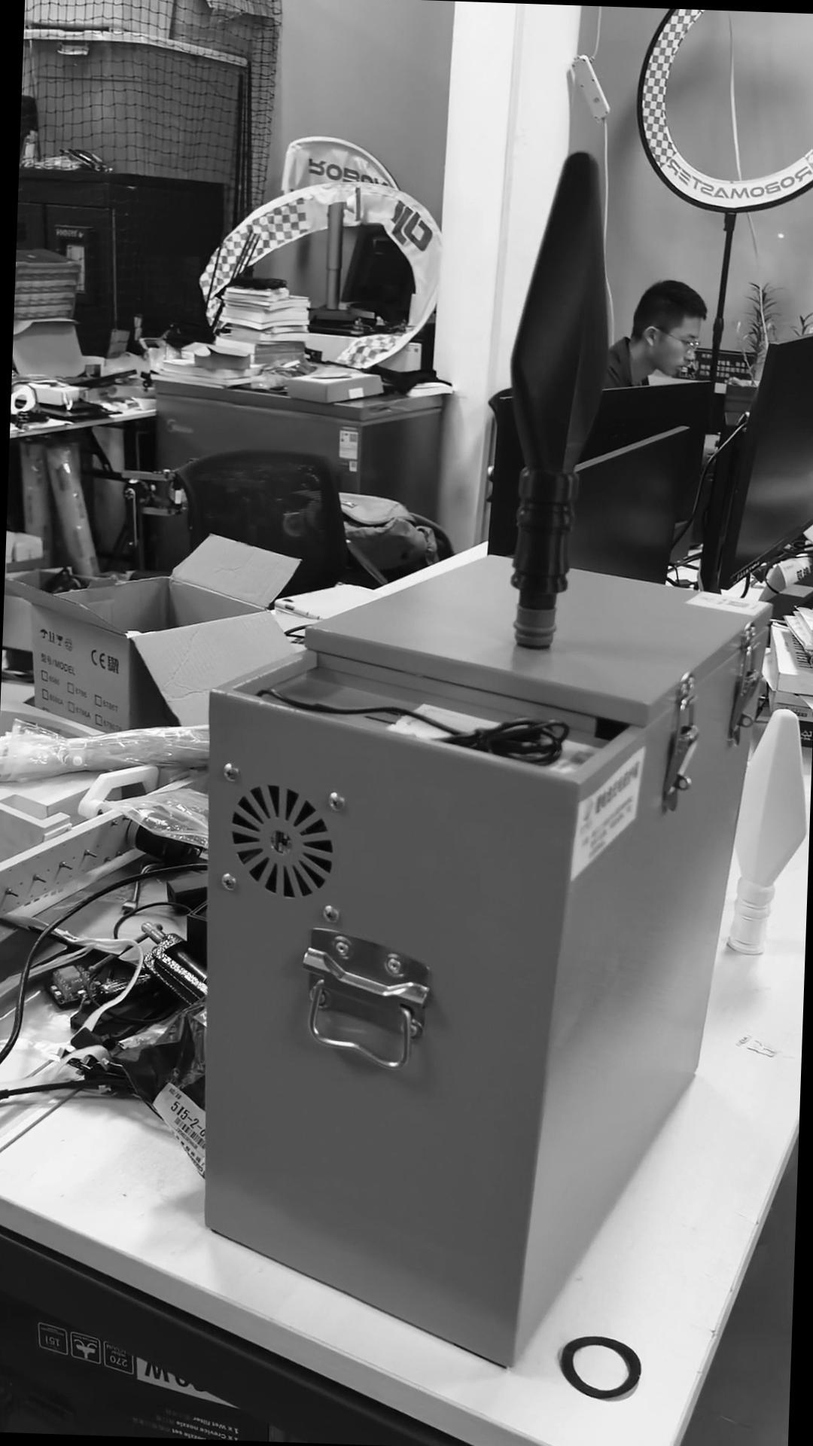base: (513, 606, 556, 650)
